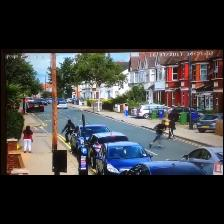person: (150, 120, 167, 148), (23, 126, 33, 153), (62, 120, 74, 142), (168, 118, 175, 140), (125, 104, 128, 117)
